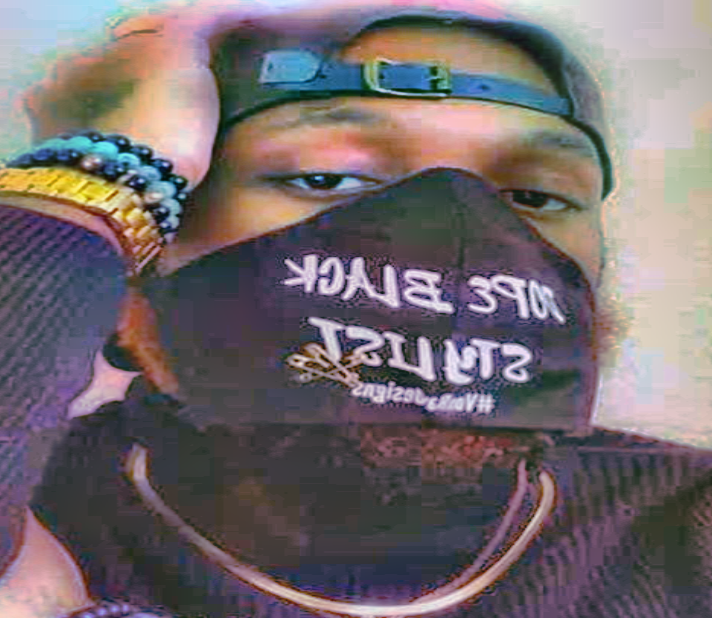mask_weared_incorrect: (84, 0, 640, 504)
